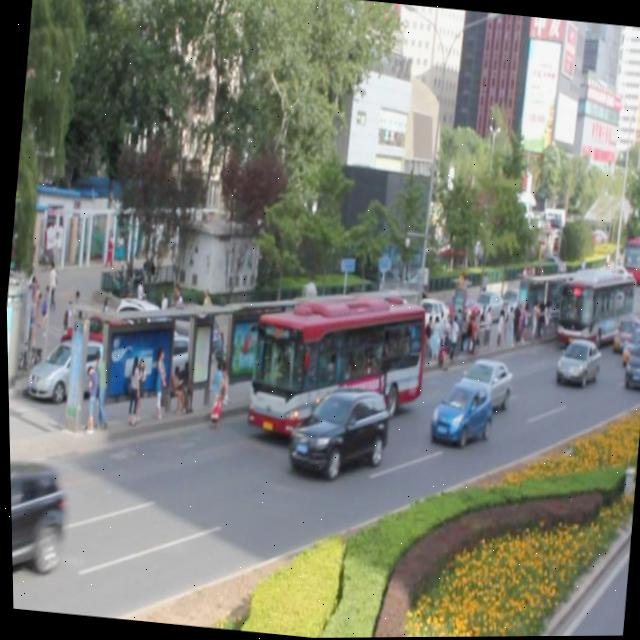car: (285, 381, 387, 481), (8, 456, 65, 587), (424, 374, 491, 448), (450, 354, 511, 410), (549, 334, 598, 385), (609, 313, 640, 351), (618, 324, 640, 362)
truck: (620, 329, 640, 386)
van: (241, 281, 425, 447), (551, 272, 633, 351)
